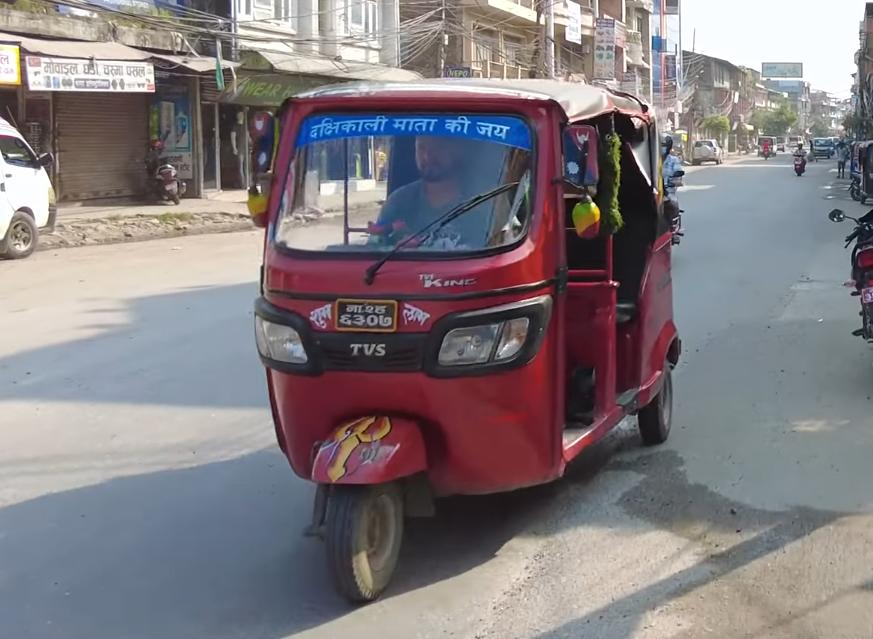auto_rickshaw: (226, 71, 695, 611)
bike: (825, 201, 873, 357)
micro_bus: (0, 110, 65, 267)
